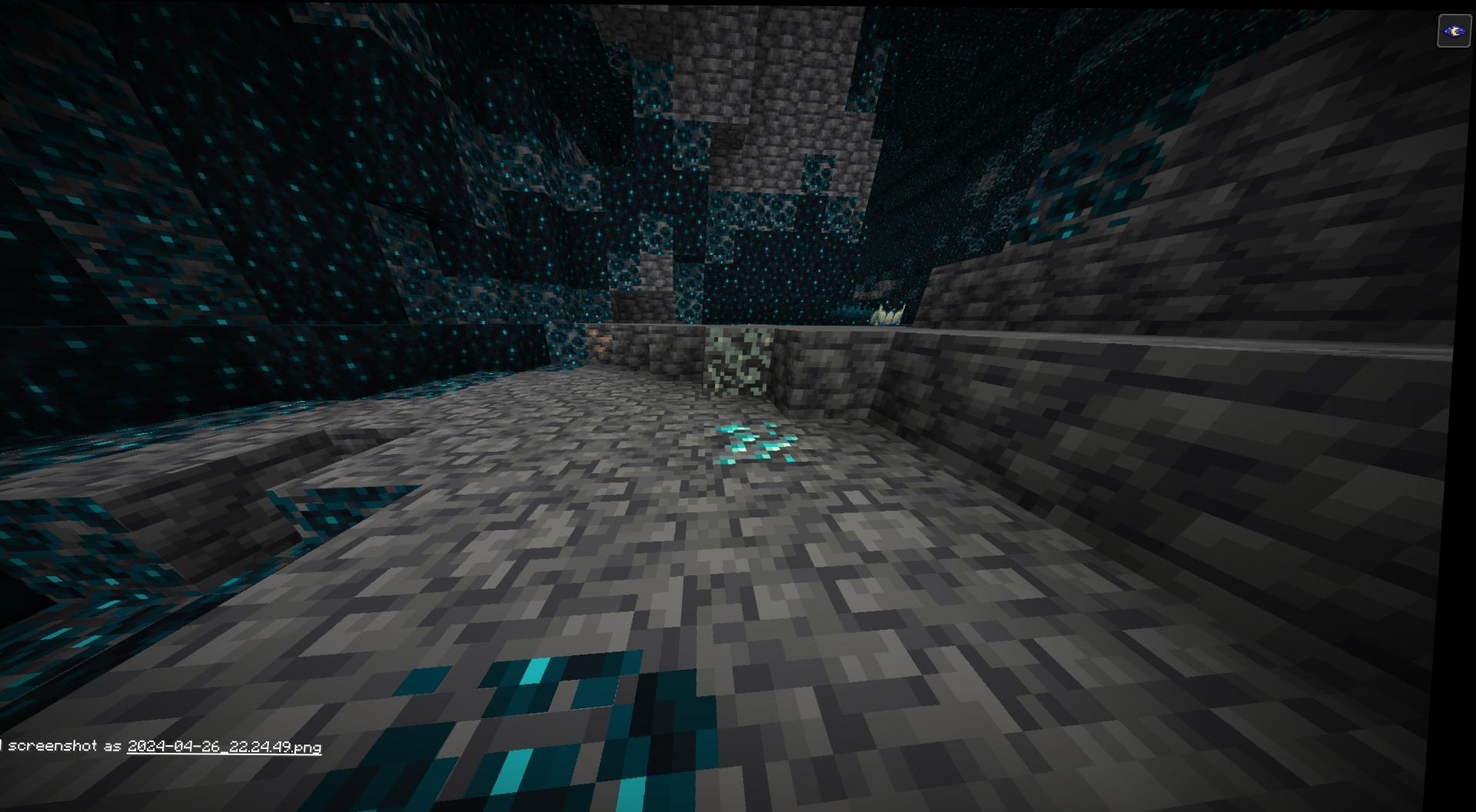diamond ore: (719, 415, 809, 468)
iron ore: (589, 321, 627, 365)
